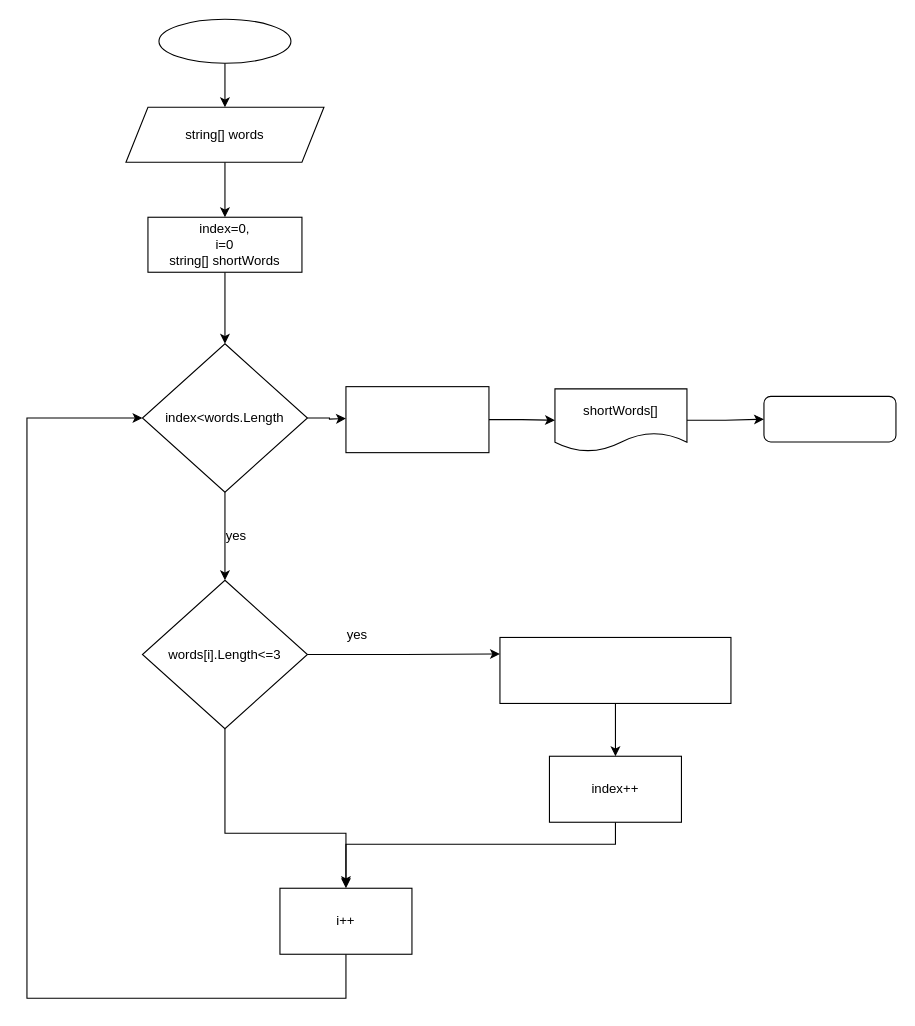
Image size: 915x1026. Some labels were removed from this diagram. The centre of each missing label's shape, as x and y in pixels:
"end" goes at pixel 829 418.
"Resize (ref shortWords, index)" goes at pixel 417 419.
"shortWords[index]=words[i]" goes at pixel 615 669.
"start" goes at pixel 224 40.
